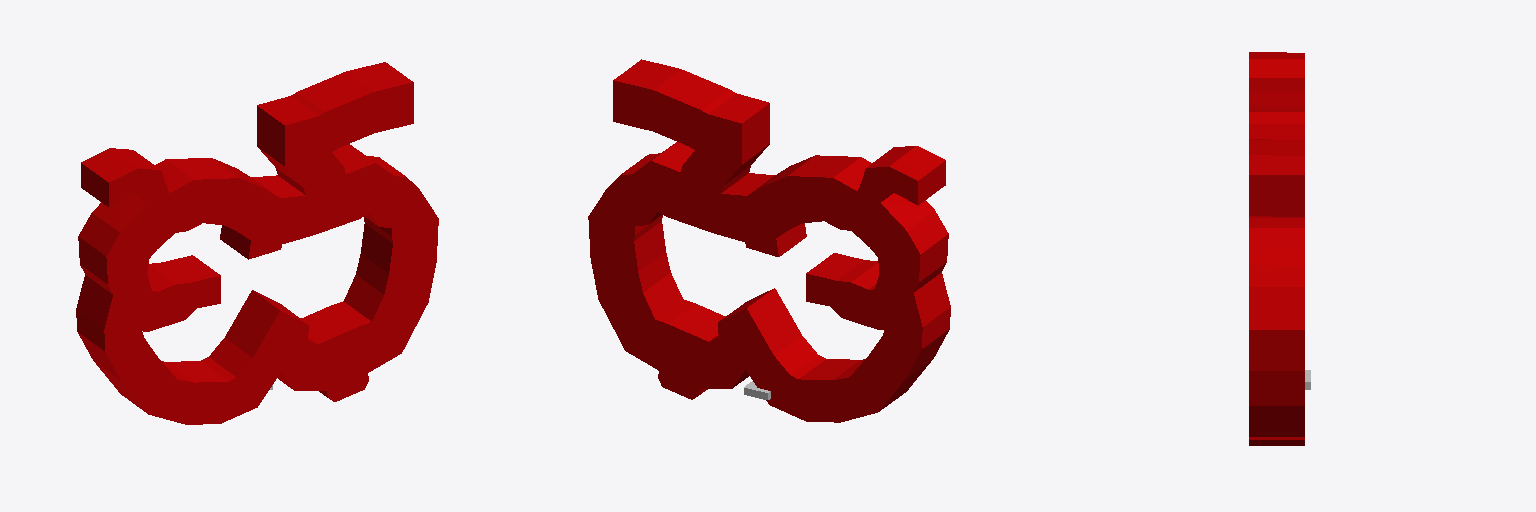
The picture shows the model from 3 angles: view 1: azimuth 30°, elevation 25°; view 2: azimuth 150°, elevation 25°; view 3: azimuth 270°, elevation 25°; orthographic projection.
Parts seen in each view (by area): view 1: World.MeshShape; view 2: World.MeshShape; view 3: World.MeshShape.
Part boxes in pixels (x1,y1,x2,y2): World.MeshShape: (76,62,438,424); World.MeshShape: (588,59,950,422); World.MeshShape: (1249,52,1304,445).
Bounding box in the file's own units: 47.97 × 41.25 × 7.75.